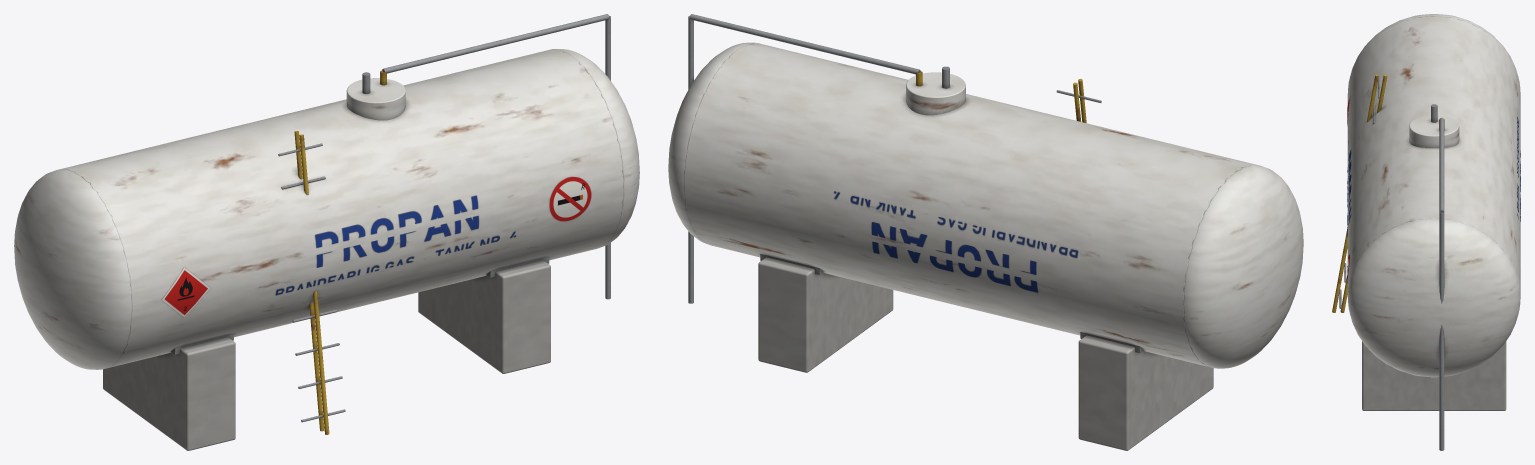
The model's file is gastank.glb.
3 renders of one model, left to right at view 1: azimuth 30°, elevation 25°; view 2: azimuth 150°, elevation 25°; view 3: azimuth 270°, elevation 25°, orthographic. The views are drawn at different scales.
Parts seen in each view (by area): view 1: gastank, tekst, rygning, rude; view 2: gastank, tekst2; view 3: gastank, tekst2, tekst.
Boxes of the visible parts, bbox=[...] form: gastank: bbox=[14, 14, 639, 450]; tekst: bbox=[275, 195, 515, 295]; rygning: bbox=[549, 177, 591, 221]; rude: bbox=[162, 267, 209, 317]; gastank: bbox=[668, 14, 1303, 450]; tekst2: bbox=[834, 191, 1078, 292]; gastank: bbox=[1332, 14, 1520, 450]; tekst2: bbox=[1517, 116, 1520, 221]; tekst: bbox=[1347, 150, 1351, 236].
Size of the model in its own units: 5.86 by 2.84 by 1.97.
Materials: 4 (4 with a texture image).
